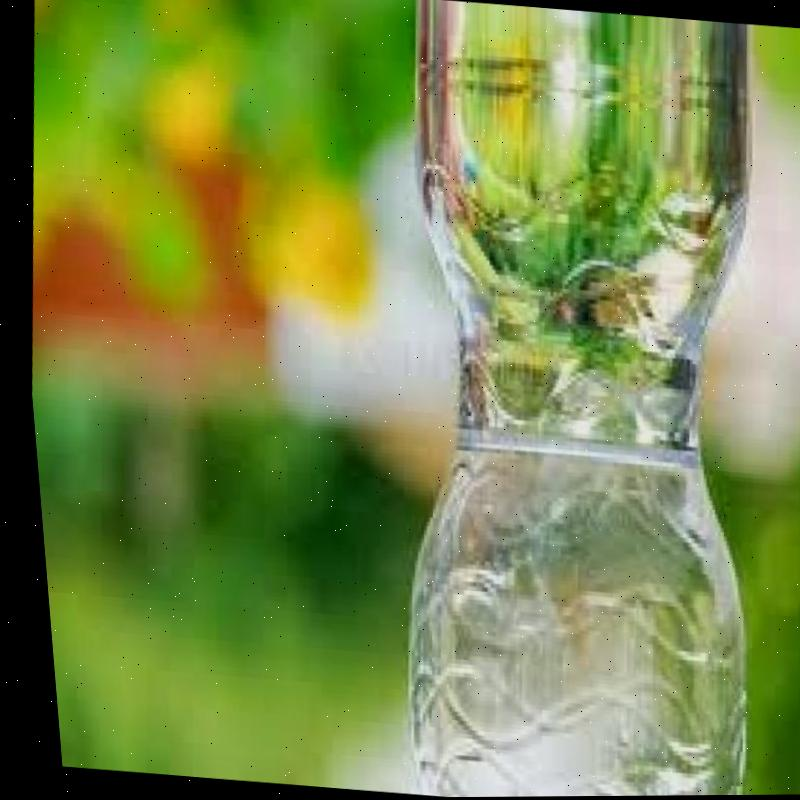botella: (338, 0, 800, 798)
